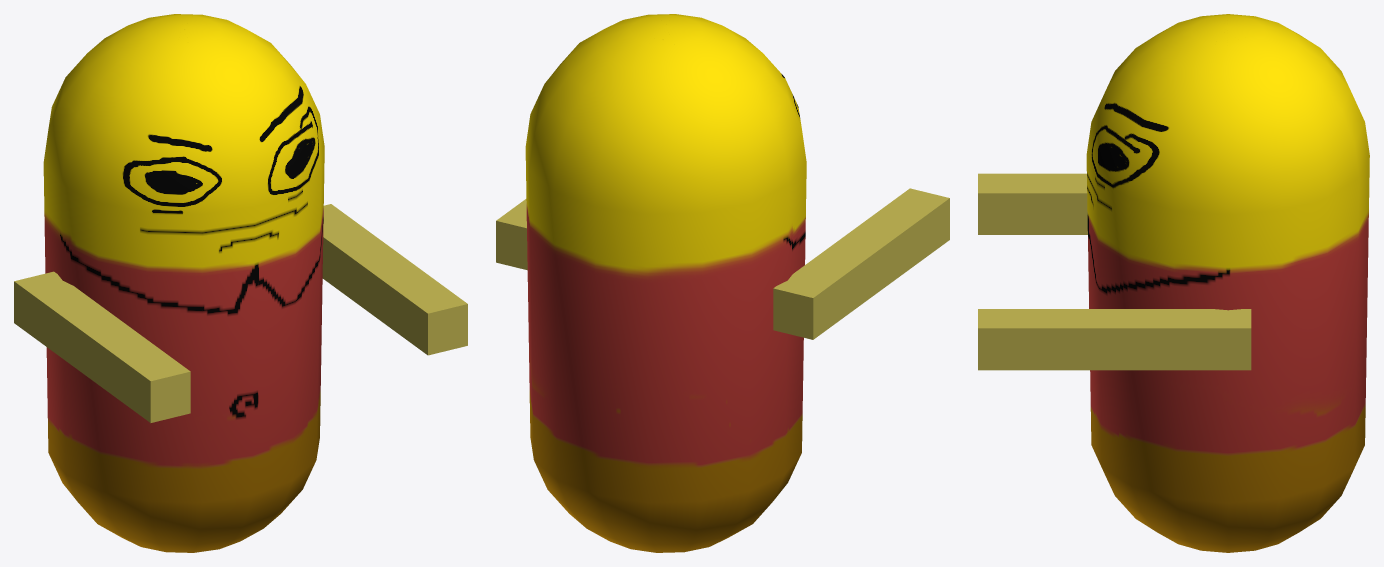
File: player2.glb
3 views of the same model, side by side, from view 1: azimuth 30°, elevation 25°; view 2: azimuth 150°, elevation 25°; view 3: azimuth 270°, elevation 25° (orthographic).
Visible parts, largest first — view 1: body, left_arm, right_arm, right_arm.001, left_arm.001; view 2: body, left_arm, right_arm, left_arm.001; view 3: body, right_arm, left_arm, left_arm.001, right_arm.001.
Boxes of the visible parts, x1=… form: body: x1=43, y1=14, x2=324, y2=552; left_arm: x1=14, y1=271, x2=180, y2=415; right_arm: x1=322, y1=204, x2=457, y2=347; right_arm.001: x1=418, y1=297, x2=467, y2=355; left_arm.001: x1=141, y1=364, x2=190, y2=422; body: x1=525, y1=14, x2=806, y2=552; left_arm: x1=773, y1=195, x2=940, y2=339; right_arm: x1=496, y1=199, x2=527, y2=270; left_arm.001: x1=901, y1=188, x2=949, y2=246; body: x1=1086, y1=14, x2=1369, y2=552; right_arm: x1=997, y1=309, x2=1251, y2=370; left_arm: x1=997, y1=173, x2=1087, y2=234; left_arm.001: x1=978, y1=173, x2=996, y2=234; right_arm.001: x1=978, y1=309, x2=996, y2=370.
Size of the model in its own units: 1.1 by 1.7 by 1.18.
Materials: 2 (1 with a texture image).
